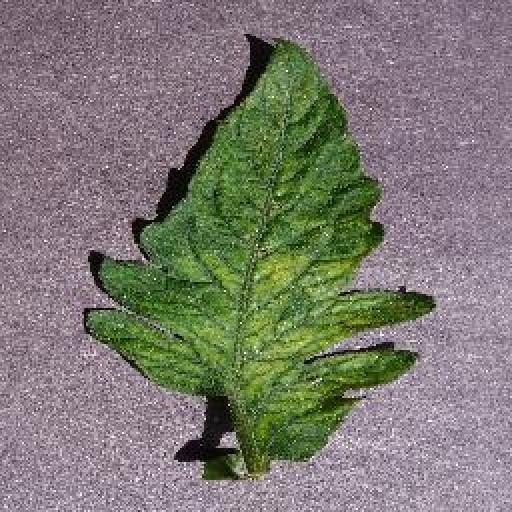Mosaic Virus: (81, 36, 438, 462)
